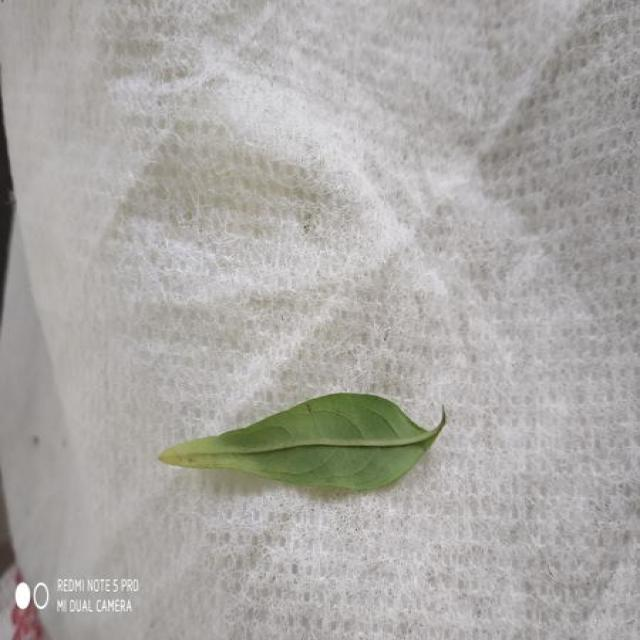Nelavembu: (160, 394, 445, 489)
